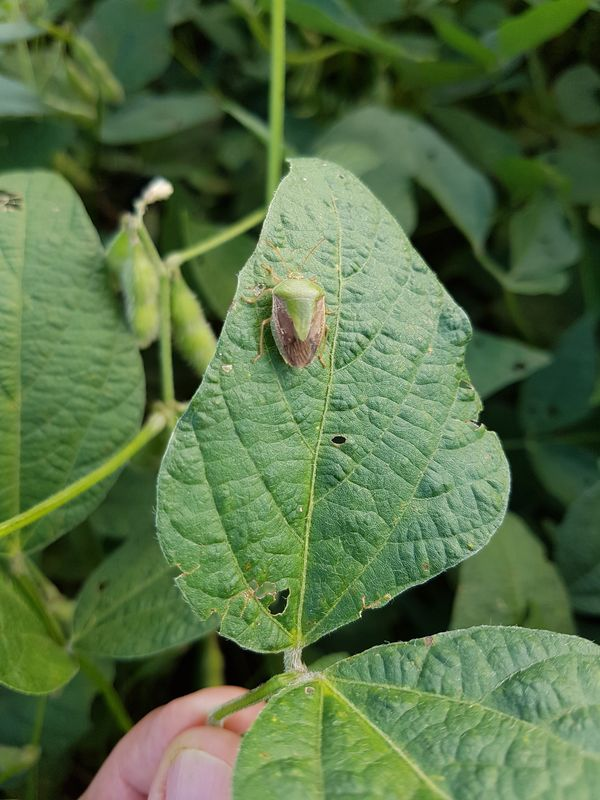Edessa_meditabunda: (235, 228, 359, 387)
